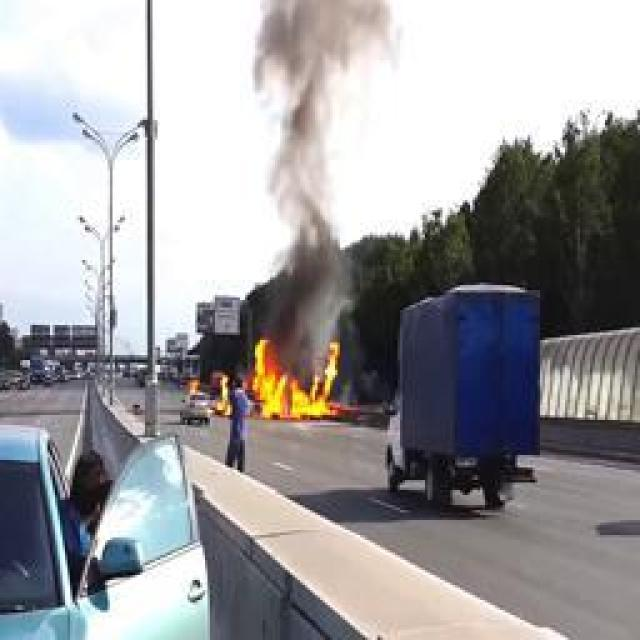Fire: (220, 340, 352, 420)
